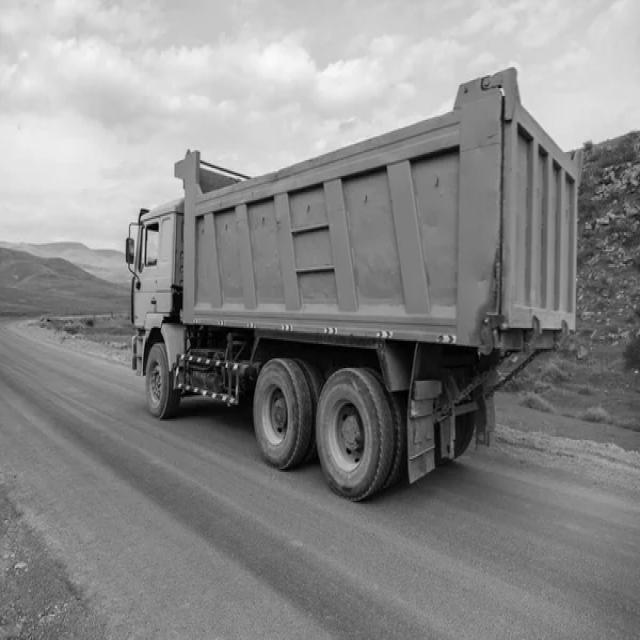Truck: (126, 69, 583, 502)
